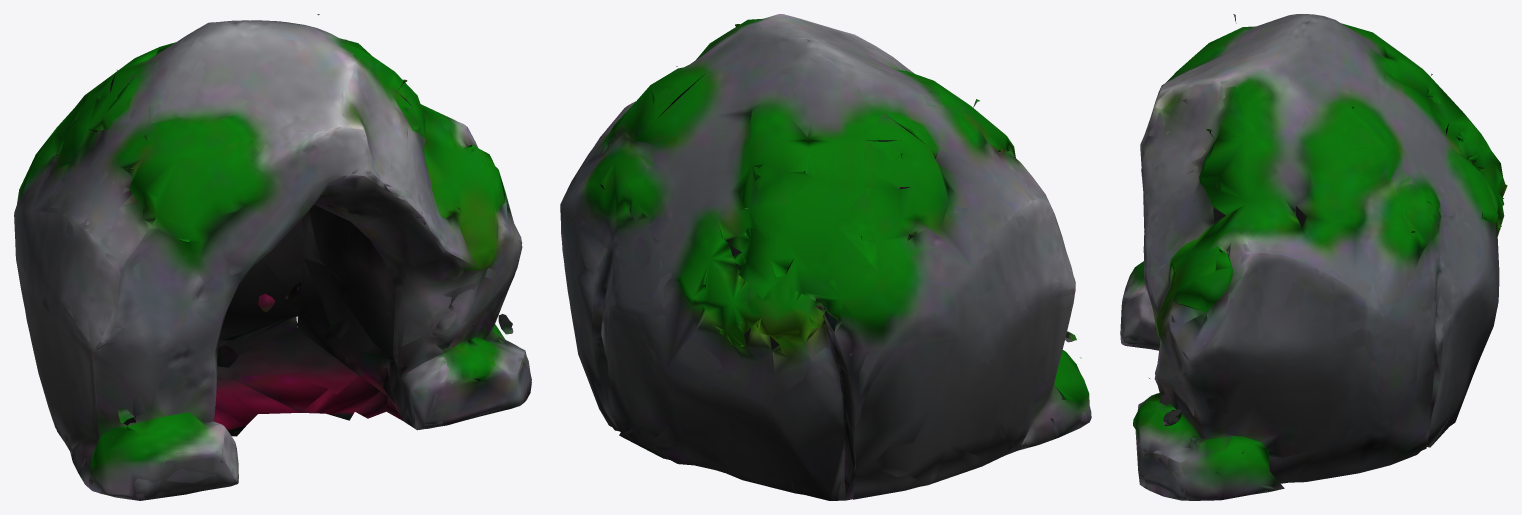
Rendered from cave.glb.
3 renders of one model, left to right at view 1: azimuth 30°, elevation 25°; view 2: azimuth 150°, elevation 25°; view 3: azimuth 270°, elevation 25°, orthographic. The views are drawn at different scales.
Size of the model in its own units: 1 by 0.803 by 0.7614.
Materials: 1 (1 with a texture image).
